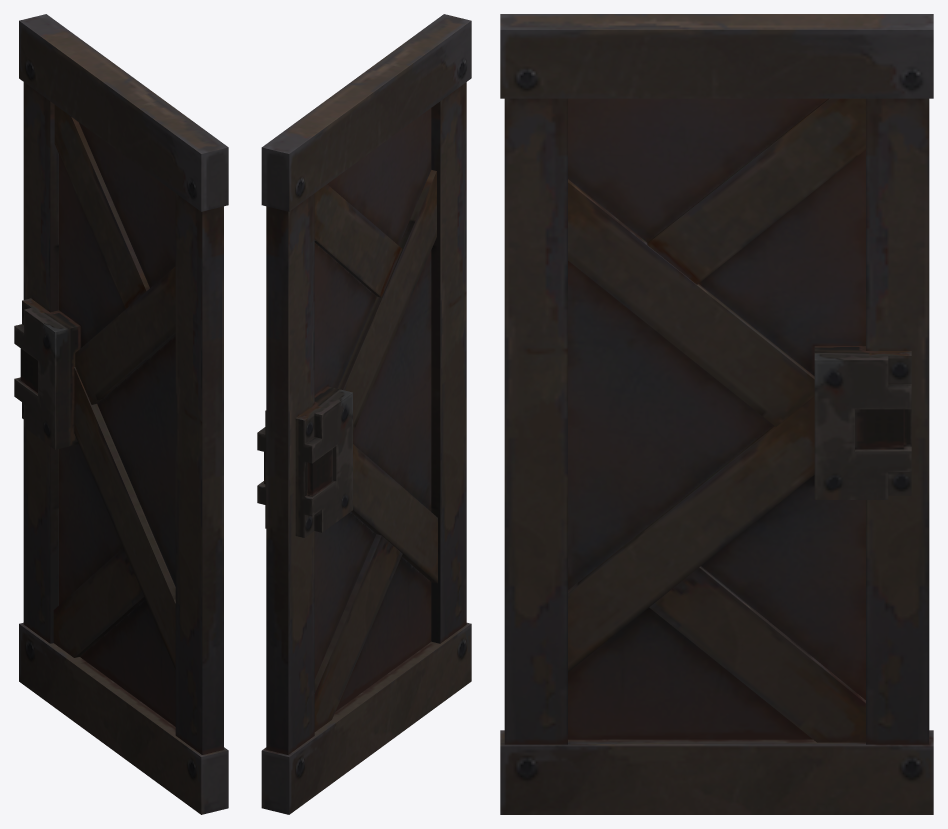
The model's file is Door03_d.FBX.
3 renders of one model, left to right at view 1: azimuth 30°, elevation 25°; view 2: azimuth 150°, elevation 25°; view 3: azimuth 270°, elevation 25°, orthographic. The views are drawn at different scales.
Visible parts, largest first — view 1: Door03_d; view 2: Door03_d; view 3: Door03_d.
Part boxes in pixels (left/top/right/bottom): Door03_d: left=14, top=14, right=228, bottom=814; Door03_d: left=257, top=14, right=471, bottom=814; Door03_d: left=500, top=14, right=933, bottom=814.
Size of the model in its own units: 0.1736 by 2 by 1.
Materials: 1 (1 with a texture image).
